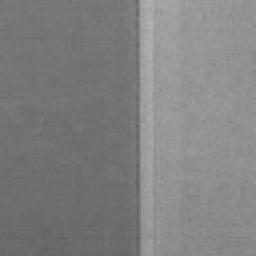Welding line: (133, 0, 142, 256)
